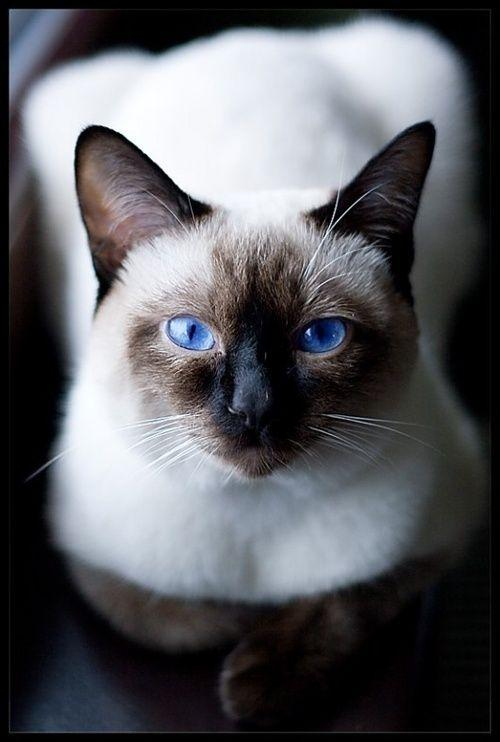siamese: (68, 115, 450, 493)
